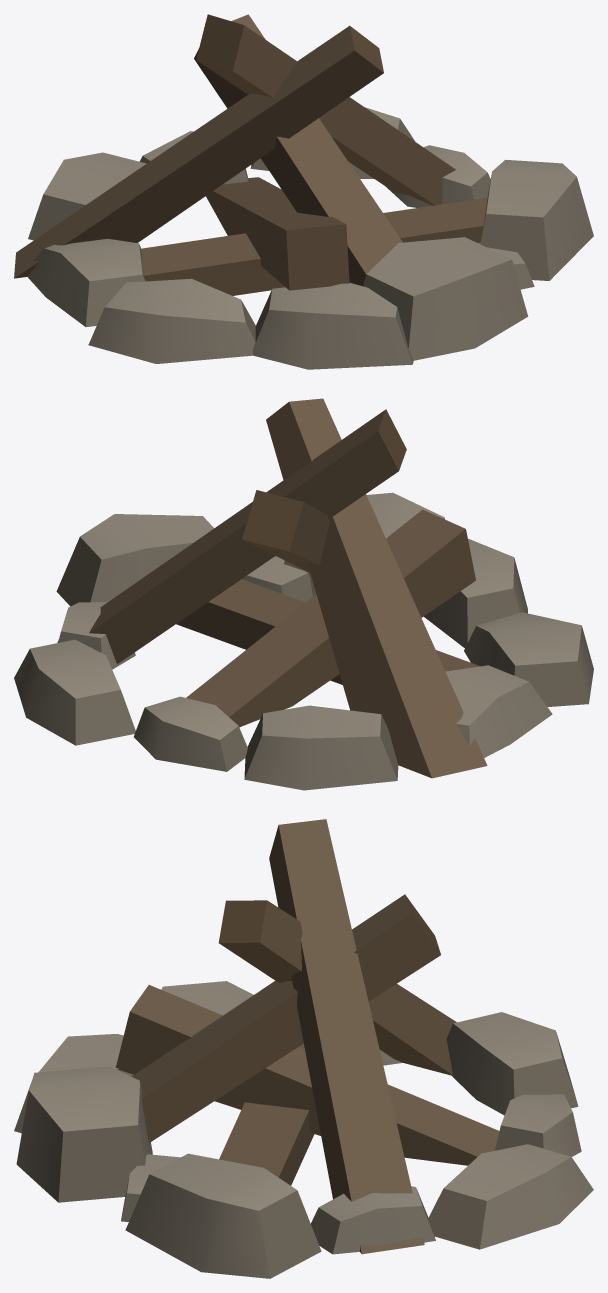
File: Firepit_02.gltf
The picture shows the model from 3 angles, top to bottom: view 1: azimuth 30°, elevation 25°; view 2: azimuth 150°, elevation 25°; view 3: azimuth 270°, elevation 25°; orthographic projection. The views are drawn at different scales.
Parts seen in each view (by area): view 1: SF_Prop_Firepit_02; view 2: SF_Prop_Firepit_02; view 3: SF_Prop_Firepit_02.
Part boxes in pixels (box(x1,y1,x2,y2)): SF_Prop_Firepit_02: box(14, 14, 593, 369); SF_Prop_Firepit_02: box(14, 398, 593, 790); SF_Prop_Firepit_02: box(14, 819, 593, 1278).
Bounding box in the file's own units: 0.0236 × 0.0117 × 0.0218.
Materials: 1 (1 with a texture image).
